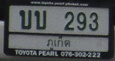txt21: (18, 9, 33, 30), (33, 9, 47, 30)
